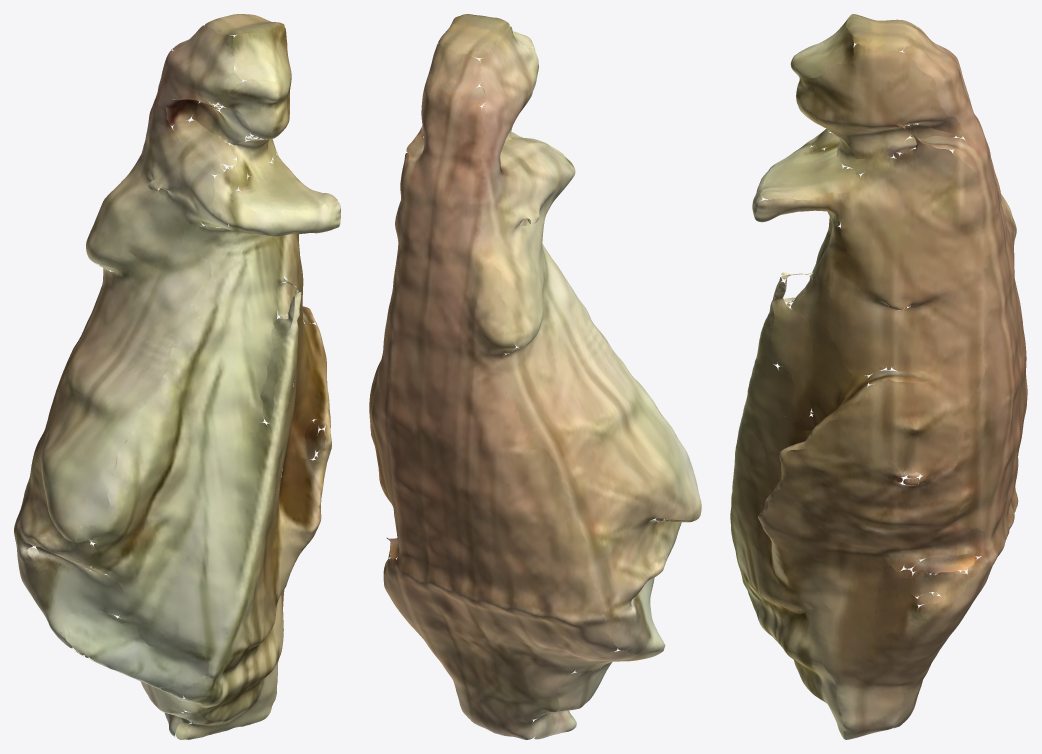
File: minerva.glb
3 renders of one model, left to right at view 1: azimuth 30°, elevation 25°; view 2: azimuth 150°, elevation 25°; view 3: azimuth 270°, elevation 25°, orthographic. The views are drawn at different scales.
Parts seen in each view (by area): view 1: minerva_Figurehead; view 2: minerva_Figurehead; view 3: minerva_Figurehead.
Part boxes in pixels (bbox=[...]): minerva_Figurehead: bbox=[14, 14, 340, 739]; minerva_Figurehead: bbox=[369, 14, 701, 739]; minerva_Figurehead: bbox=[730, 14, 1027, 739].
Size of the model in its own units: 0.9508 by 2.2 by 0.8248.
1 material, 1 textured.
